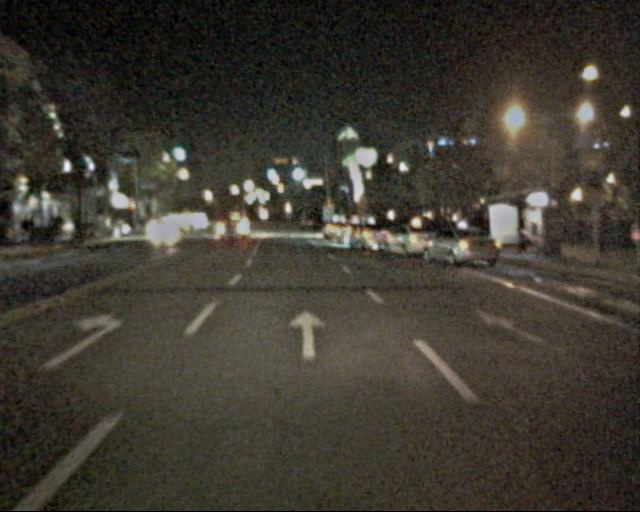person: (588, 206, 610, 262), (556, 207, 577, 258), (512, 227, 537, 260)
